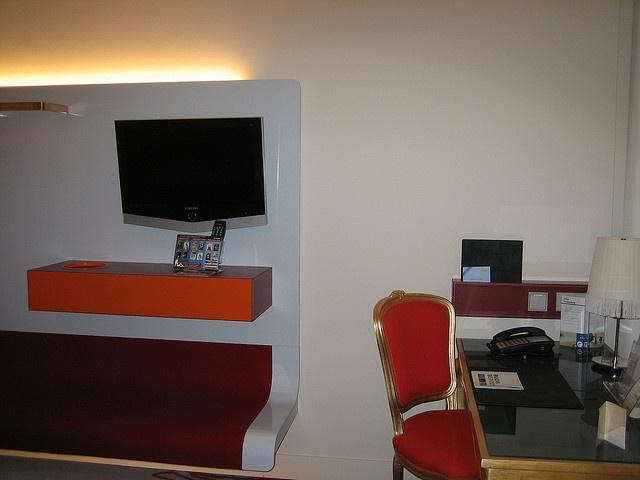AIO PC-Monitor-TV: (112, 116, 267, 233)
Kursi: (372, 290, 482, 479)
Meja: (454, 334, 639, 479)
